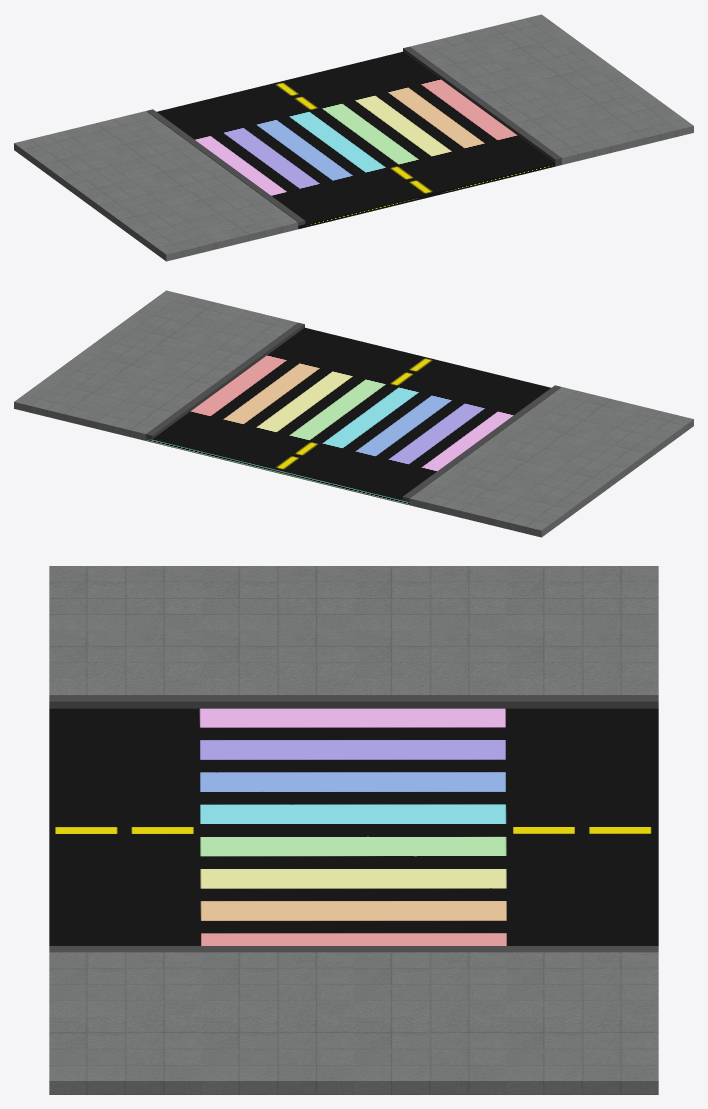
The model's file is RoadCrossing_1x2.fbx.
The picture shows the model from 3 angles, top to bottom: view 1: azimuth 30°, elevation 25°; view 2: azimuth 150°, elevation 25°; view 3: azimuth 270°, elevation 25°; orthographic projection. The views are drawn at different scales.
Parts seen in each view (by area): view 1: RoadCrossing 1x2.001; view 2: RoadCrossing 1x2.001; view 3: RoadCrossing 1x2.001.
Boxes of the visible parts, x1=… form: RoadCrossing 1x2.001: x1=14, y1=14, x2=693, y2=261; RoadCrossing 1x2.001: x1=14, y1=290, x2=693, y2=537; RoadCrossing 1x2.001: x1=49, y1=566, x2=658, y2=1094.
Bounding box in the file's own units: 16 × 0.2 × 8.
